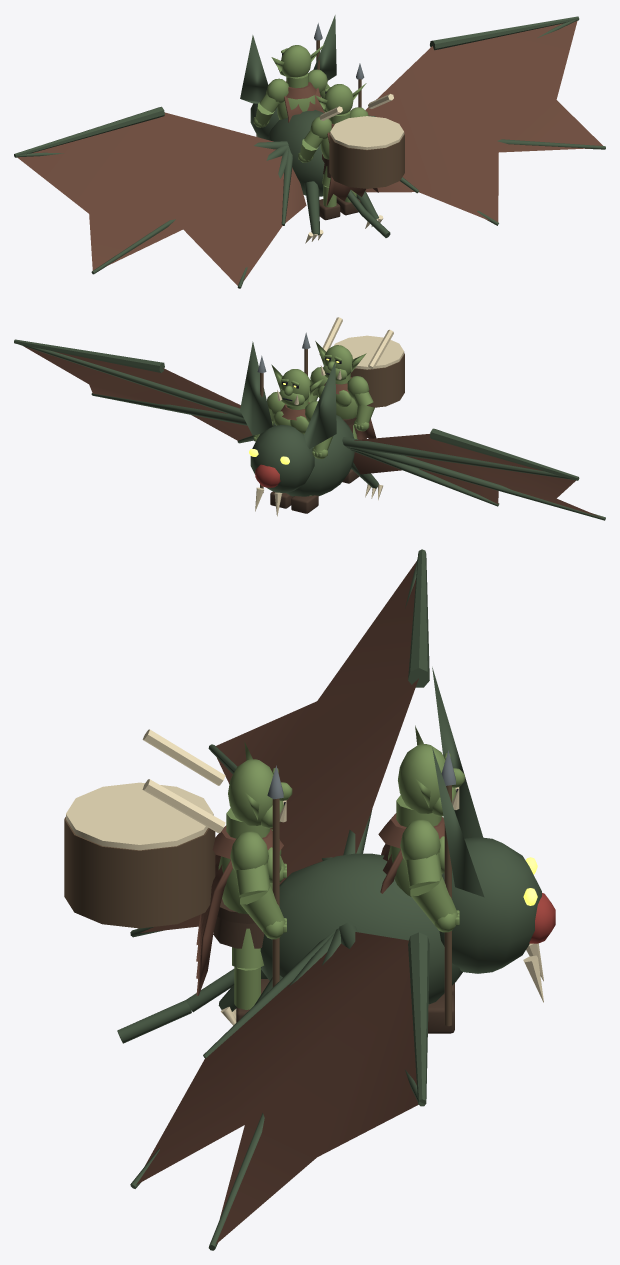
The model's file is host_45.glb.
The picture shows the model from 3 angles, top to bottom: view 1: azimuth 30°, elevation 25°; view 2: azimuth 150°, elevation 25°; view 3: azimuth 270°, elevation 25°; orthographic projection. The views are drawn at different scales.
Parts seen in each view (by area): view 1: mesh_Cloth.002, mesh_Cloth.003, mesh_Shadow.015, mesh_Wood.029_warDrums, mesh_Shadow.001, mesh_Bone.041_warDrums, mesh_Shadow.003, mesh_Skin.007, mesh_Skin.002, mesh_Skin.008, mesh_Skin.003, mesh_Cloth.001 (+3 smaller); view 2: mesh_Shadow.015, mesh_Shadow.001, mesh_Cloth.002, mesh_Cloth.003, mesh_Shadow.003, mesh_Bone.041_warDrums, mesh_Skin.007, mesh_Skin.002, mesh_Wood.029_warDrums, mesh_Skin.003, mesh_Red.015, mesh_Skin.008 (+4 smaller); view 3: mesh_Cloth.003, mesh_Shadow.015, mesh_Cloth.002, mesh_Wood.029_warDrums, mesh_Bone.041_warDrums, mesh_Shadow.003, mesh_Skin.002, mesh_Skin.007, mesh_Skin.009, mesh_Skin.004, mesh_Shadow.001, mesh_Cloth.021 (+5 smaller).
Boxes of the visible parts, box(x1,y1,x2,y2) form: mesh_Cloth.002: box(17, 112, 306, 285); mesh_Cloth.003: box(365, 20, 602, 221); mesh_Shadow.015: box(240, 15, 390, 237); mesh_Wood.029_warDrums: box(329, 133, 404, 188); mesh_Shadow.001: box(14, 106, 292, 288); mesh_Bone.041_warDrums: box(319, 94, 404, 149); mesh_Shadow.003: box(369, 16, 605, 225); mesh_Skin.007: box(271, 44, 324, 119); mesh_Skin.002: box(315, 83, 366, 159); mesh_Skin.008: box(253, 78, 288, 127); mesh_Skin.003: box(298, 116, 331, 162); mesh_Cloth.001: box(284, 81, 324, 122); mesh_Shadow.015: box(240, 341, 354, 496); mesh_Shadow.001: box(342, 428, 605, 520); mesh_Cloth.002: box(353, 434, 602, 517); mesh_Cloth.003: box(23, 346, 252, 440); mesh_Shadow.003: box(14, 339, 276, 443); mesh_Bone.041_warDrums: box(319, 317, 404, 369); mesh_Skin.007: box(271, 364, 324, 434); mesh_Skin.002: box(315, 341, 366, 419); mesh_Wood.029_warDrums: box(350, 353, 404, 407); mesh_Skin.003: box(347, 376, 374, 431); mesh_Red.015: box(255, 464, 280, 487); mesh_Skin.008: box(305, 401, 332, 458); mesh_Cloth.003: box(136, 932, 418, 1244); mesh_Shadow.015: box(117, 667, 541, 1043); mesh_Cloth.002: box(138, 561, 418, 932); mesh_Wood.029_warDrums: box(64, 817, 215, 928); mesh_Bone.041_warDrums: box(66, 729, 225, 850); mesh_Shadow.003: box(130, 922, 429, 1250); mesh_Skin.002: box(218, 741, 292, 914); mesh_Skin.007: box(388, 725, 464, 896); mesh_Skin.009: box(400, 819, 459, 932); mesh_Skin.004: box(230, 831, 286, 939); mesh_Shadow.001: box(130, 549, 429, 937); mesh_Cloth.021: box(196, 825, 283, 995).
Size of the model in its own units: 3.96 by 1.2 by 1.5.
